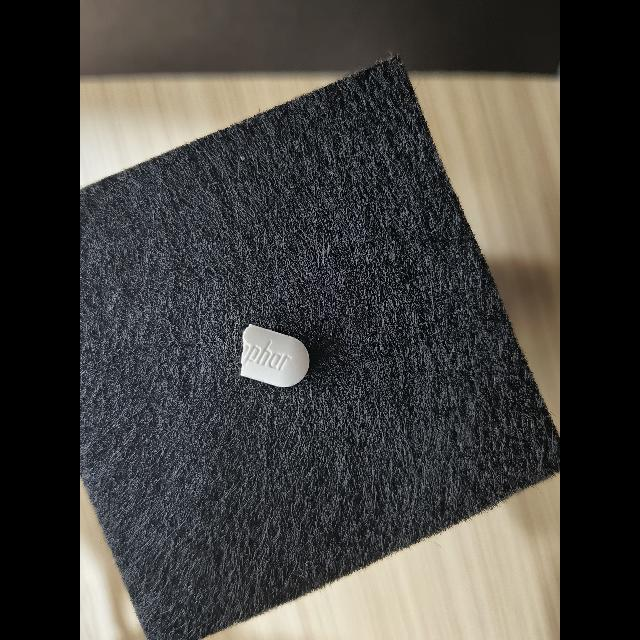Chipped Pill: (240, 324, 309, 387)
